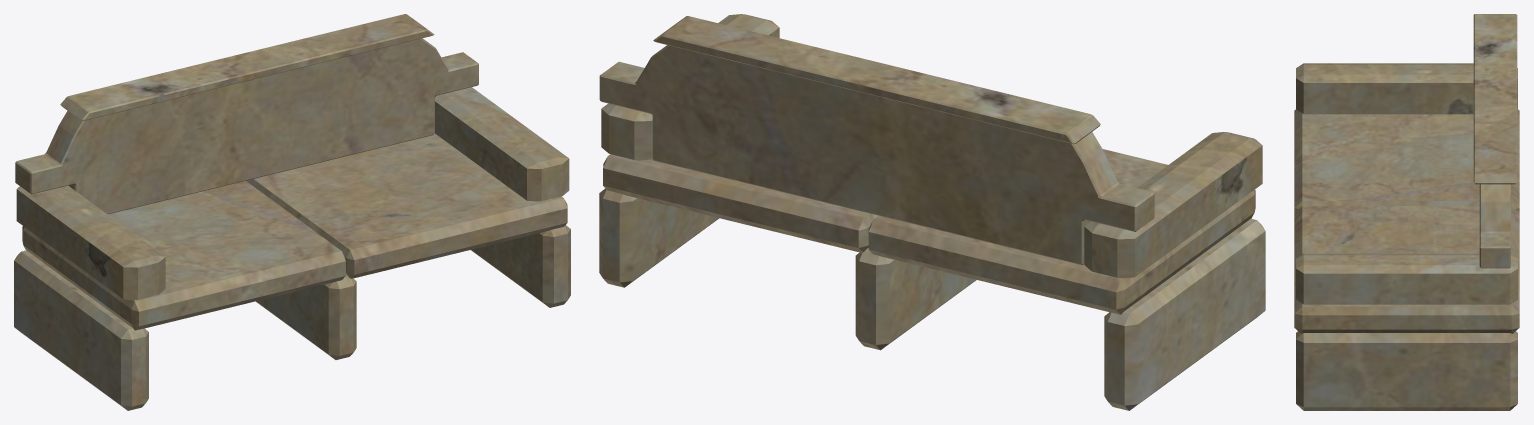
File: stoneBench_Export.fbx
3 renders of one model, left to right at view 1: azimuth 30°, elevation 25°; view 2: azimuth 150°, elevation 25°; view 3: azimuth 270°, elevation 25°, orthographic. The views are drawn at different scales.
Visible parts, largest first — view 1: pCube9; view 2: pCube9; view 3: pCube9.
Part boxes in pixels (x1,y1,x2,y2): pCube9: (14,14,570,410); pCube9: (599,14,1265,410); pCube9: (1294,14,1519,410).
Bounding box in the file's own units: 16.06 × 7.59 × 7.2.
1 material, 1 textured.
